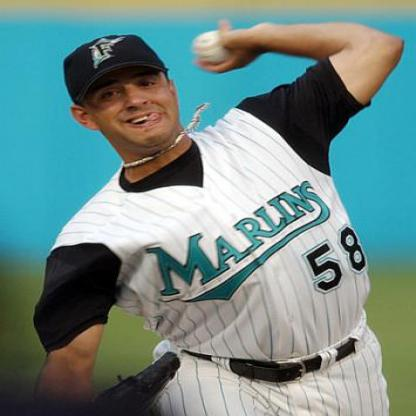face: (82, 37, 177, 151)
